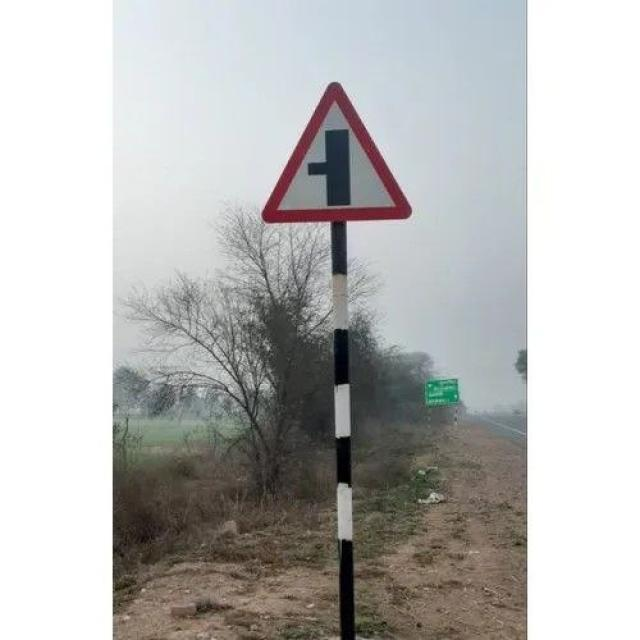side road left: (260, 79, 409, 221)
